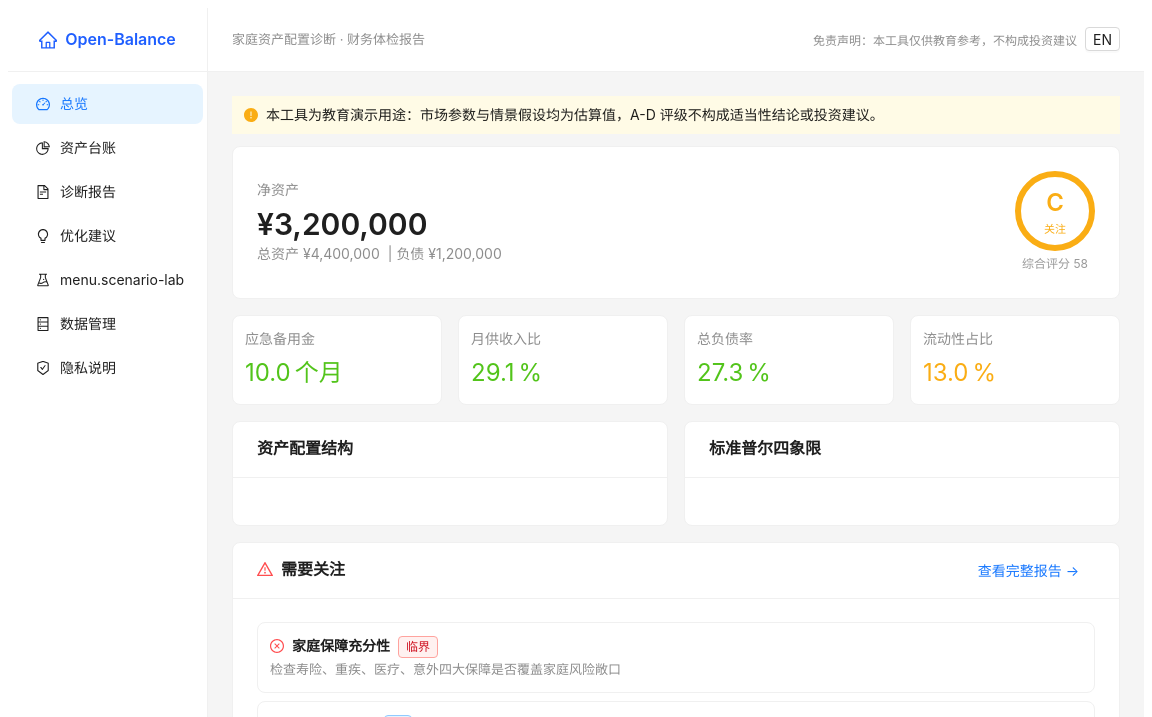
Test: UI 冒烟测试 (Issue #25) › 页头语言切换：中文 → English
The image size is (1152, 717).
Click the button "EN" at x=1102, y=39, box [1085,27,1120,51]
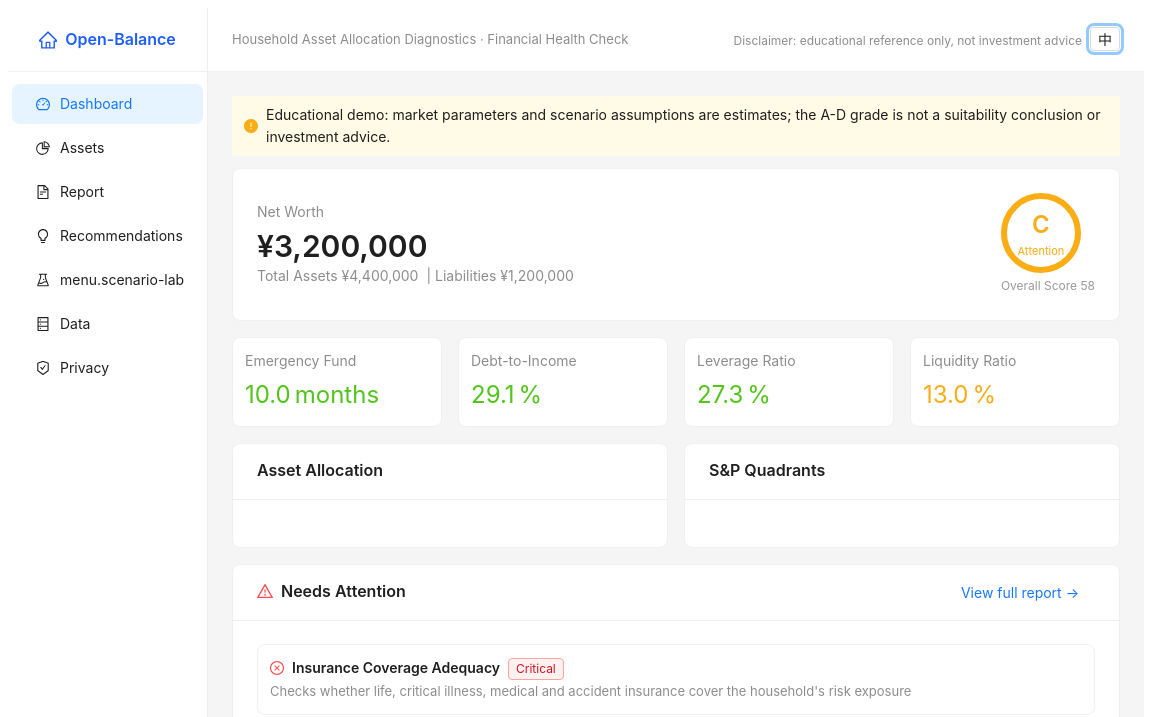
Expected: the text "Net Worth" is shown, [257,203,324,220]
Expected: the text "Total Assets ¥4,400,000" is shown, [257,267,418,284]
